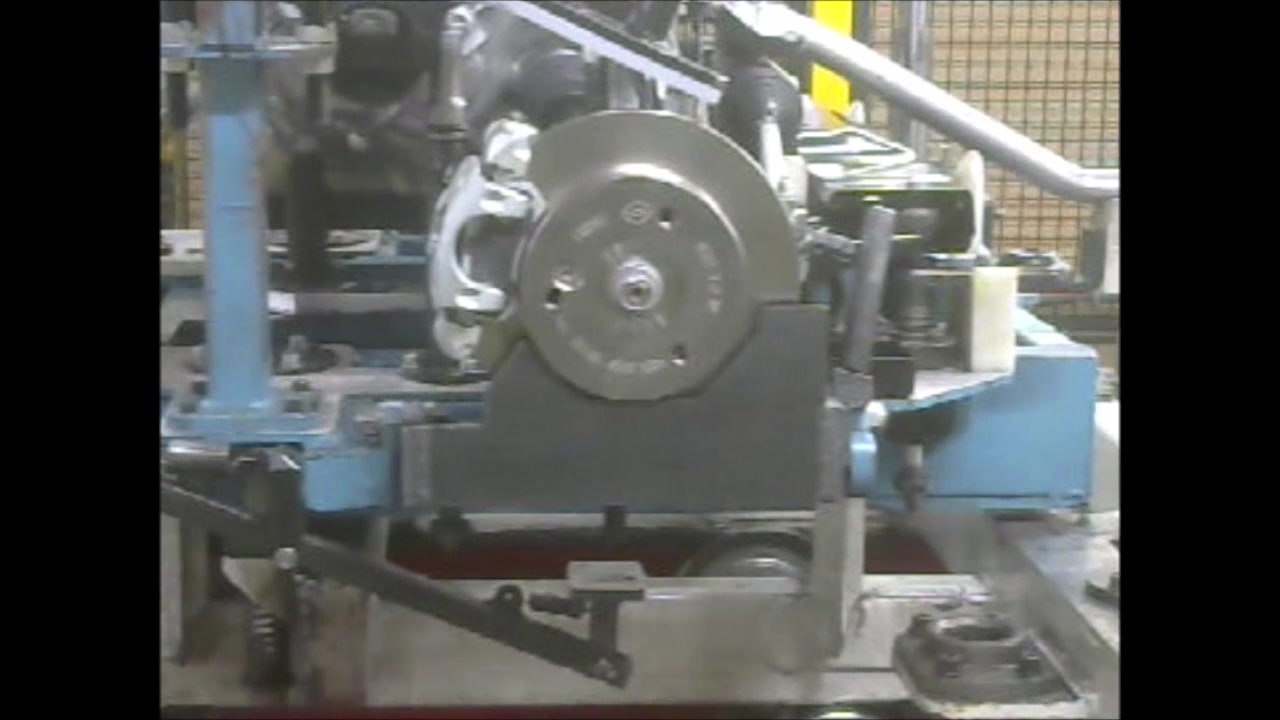DD1: (538, 103, 806, 418)
P1: (422, 110, 548, 370)
